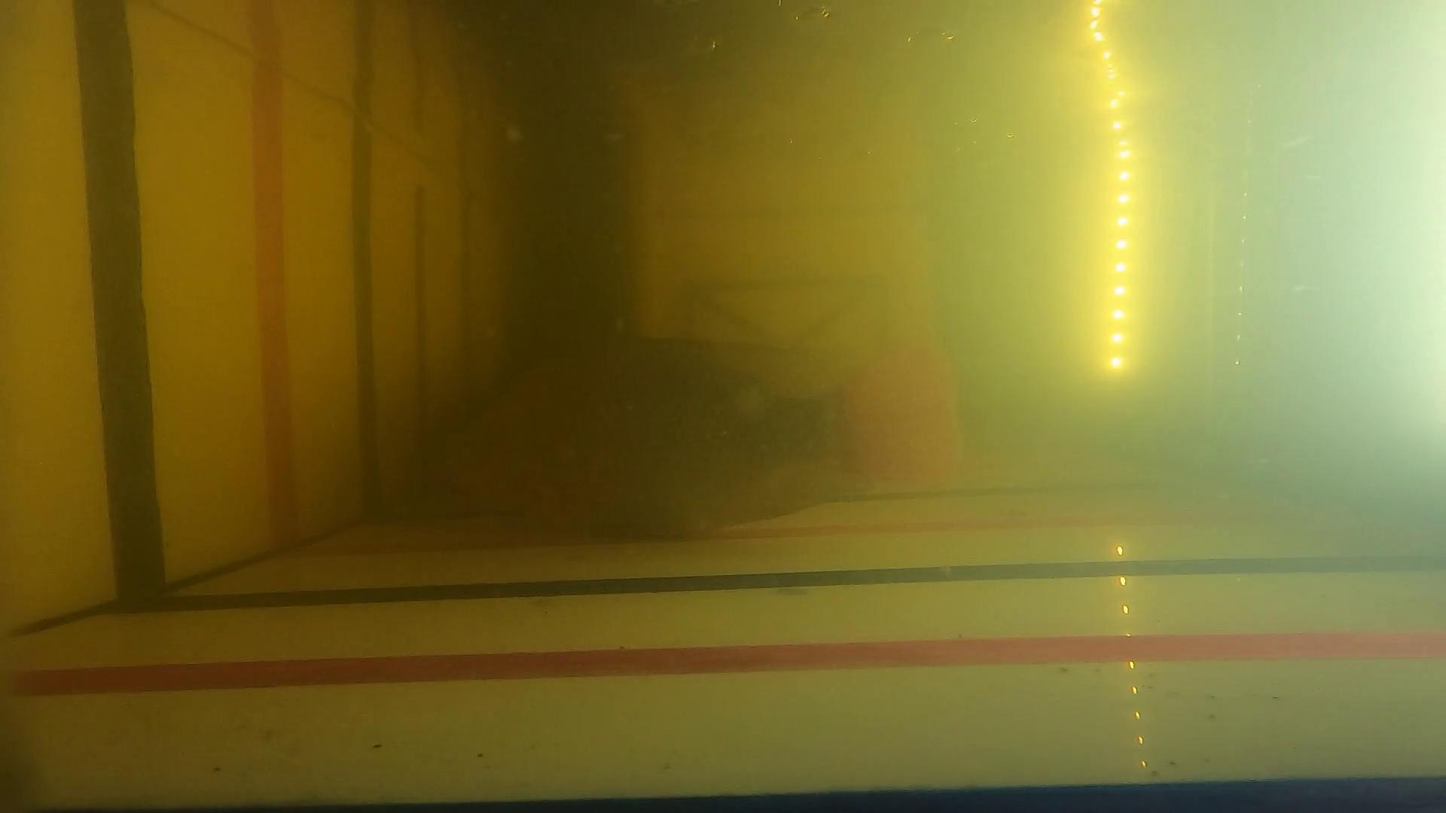Tilapia: (429, 334, 845, 539)
